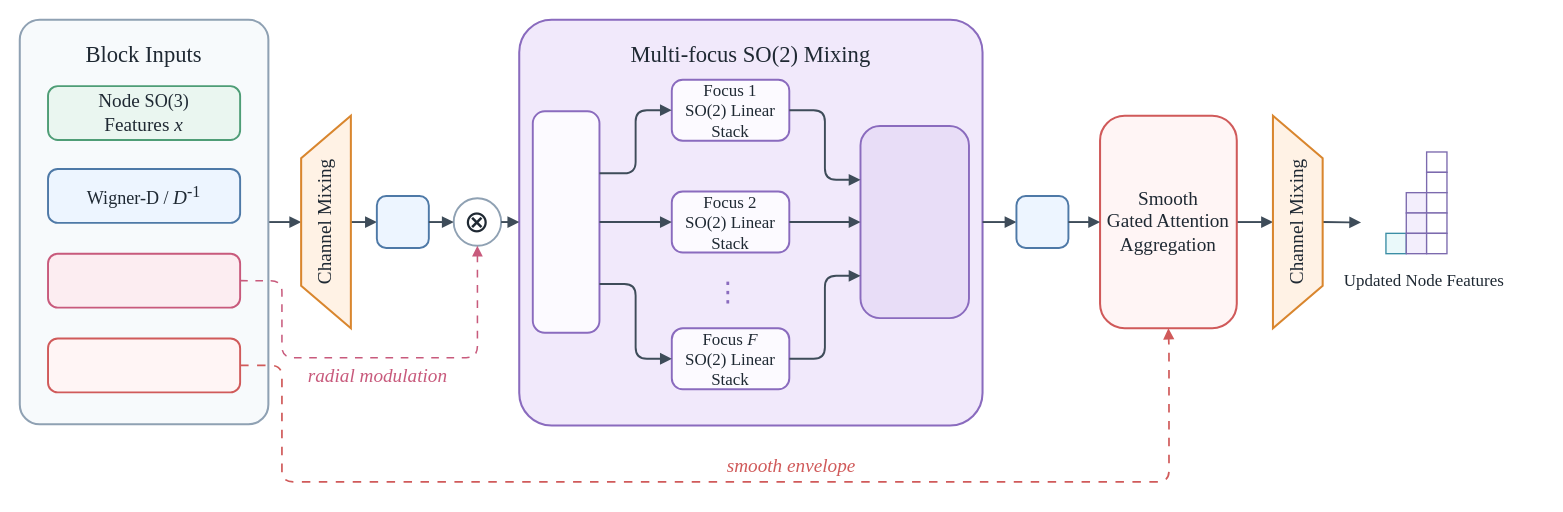
This 1563x512 diagram has some shape labels left out. Here are the shapes that lost their labels. From the top down, the centre of each, then its label:
point (402, 221): D ij
point (565, 221): F Streams
point (914, 222): Cross Focus Softmax Competition
point (1042, 221): D ij -1
point (144, 280): Radial & Type Features
point (144, 365): Cutoff Envelope
